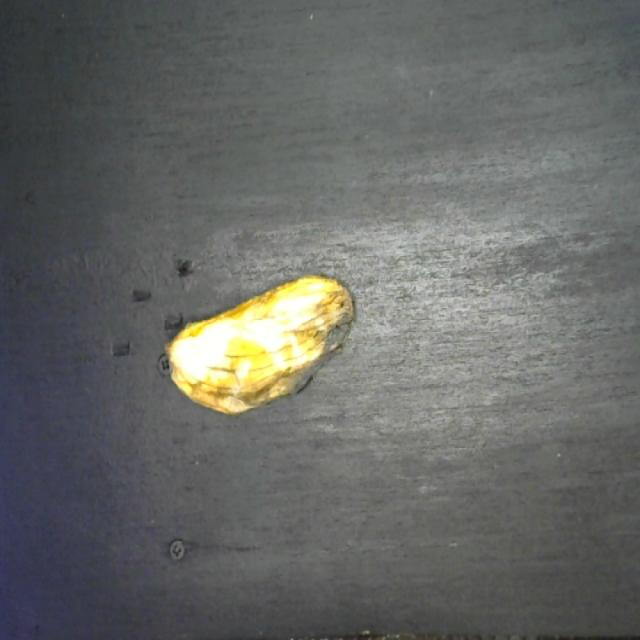biodegradable: (160, 268, 356, 427)
